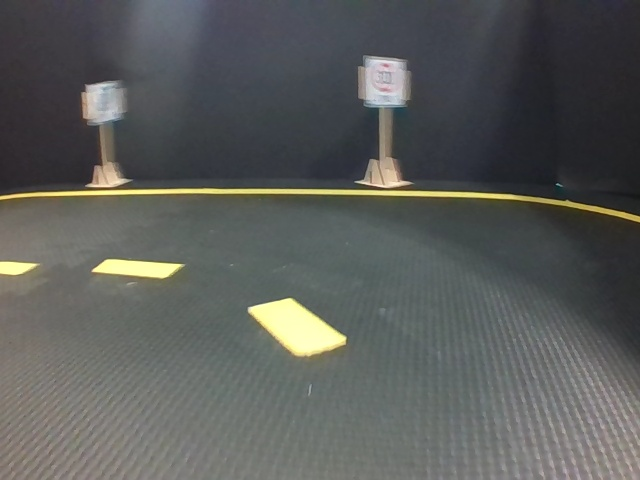30: (363, 57, 405, 108)
no30: (84, 82, 124, 120)
